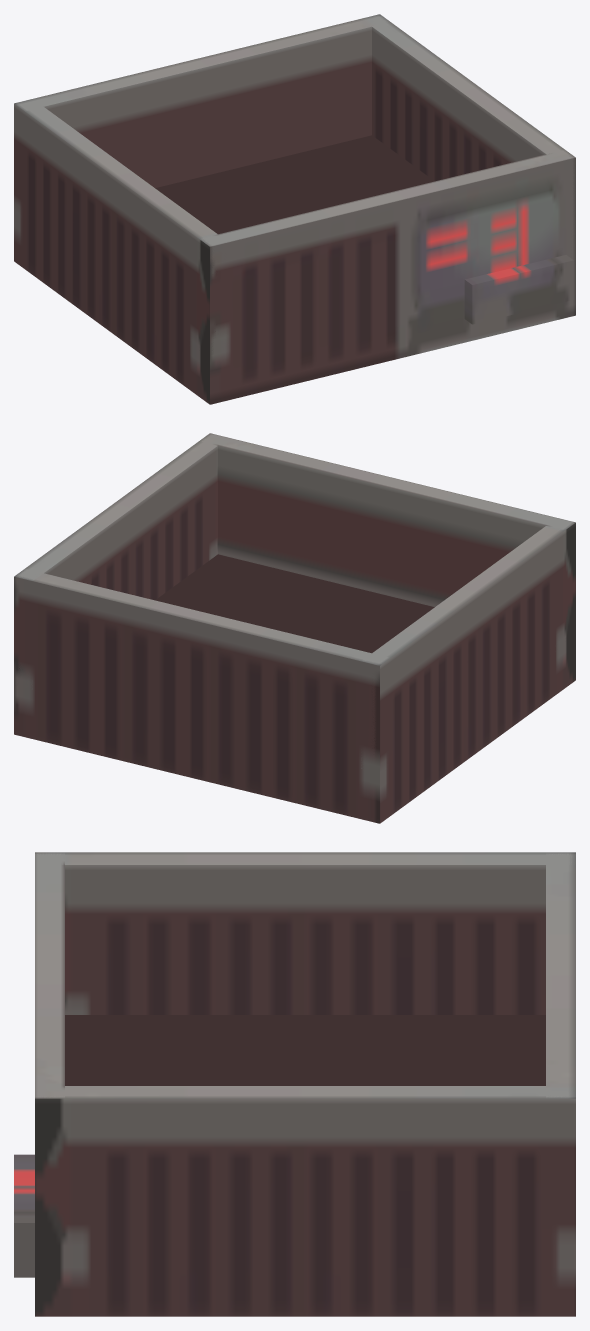
The model's file is Building_AncientSecurityCrate__Open.glb.
3 renders of one model, top to bottom at view 1: azimuth 30°, elevation 25°; view 2: azimuth 150°, elevation 25°; view 3: azimuth 270°, elevation 25°, orthographic. The views are drawn at different scales.
Visible parts, largest first — view 1: AncientSecurityCrate; view 2: AncientSecurityCrate; view 3: AncientSecurityCrate.
Boxes of the visible parts, x1,y1,x2,y2 form: AncientSecurityCrate: [14, 14, 575, 404]; AncientSecurityCrate: [14, 433, 575, 823]; AncientSecurityCrate: [14, 852, 575, 1316].
Bounding box in the file's own units: 1.94 × 0.8 × 1.87.
1 material, 1 textured.
